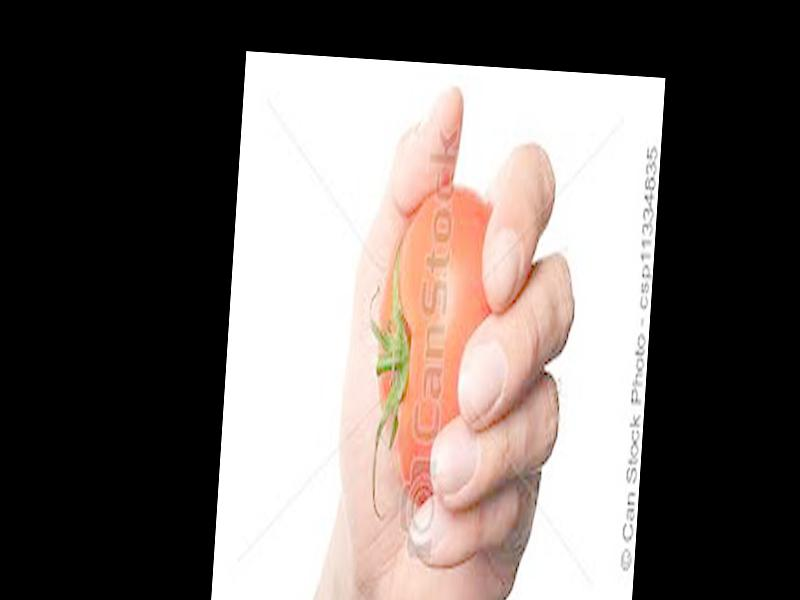Tomato: (370, 182, 496, 507)
